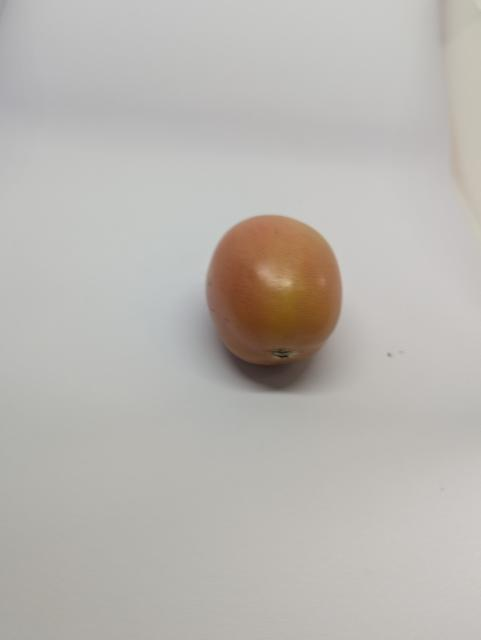turning: (197, 202, 350, 377)
